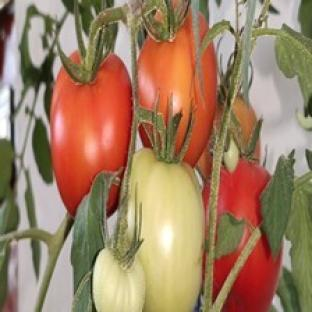Tomato: (51, 53, 132, 215), (138, 12, 217, 167), (129, 150, 204, 311), (223, 234, 281, 311), (92, 248, 144, 311), (233, 95, 257, 147), (0, 3, 13, 82)
